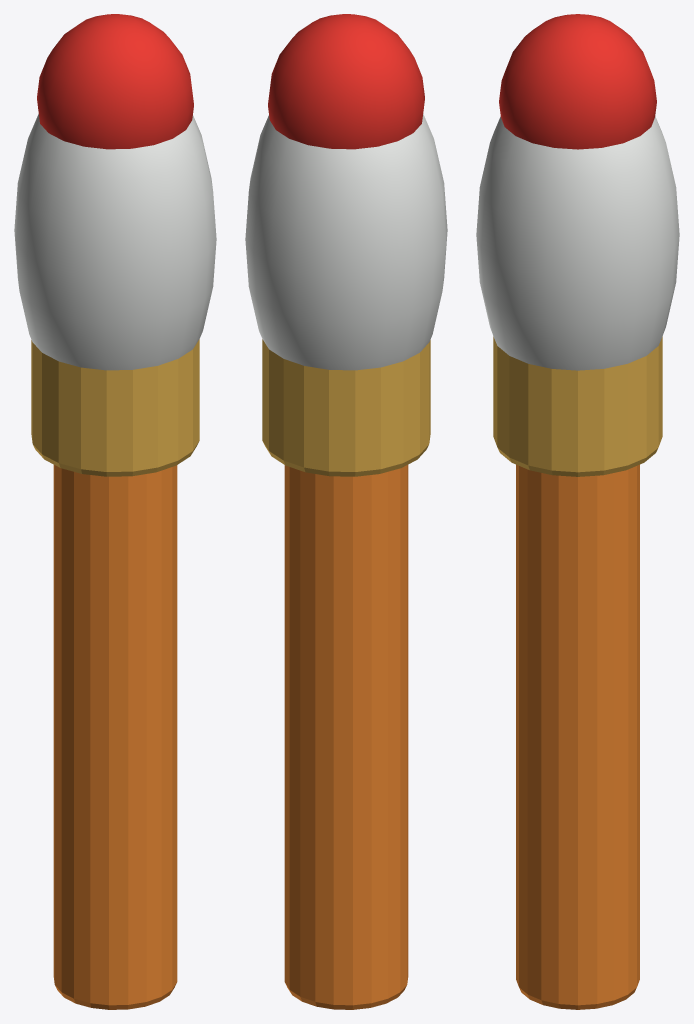
Rendered from pickup_brush.glb.
3 renders of one model, left to right at view 1: azimuth 30°, elevation 25°; view 2: azimuth 150°, elevation 25°; view 3: azimuth 270°, elevation 25°, orthographic.
Parts seen in each view (by area): view 1: Paintbrush wooden handle, Brush bristles, Ferrule, Red paint tip; view 2: Paintbrush wooden handle, Brush bristles, Ferrule, Red paint tip; view 3: Paintbrush wooden handle, Brush bristles, Ferrule, Red paint tip.
Boxes of the visible parts, bbox=[...] form: Paintbrush wooden handle: bbox=[53, 465, 177, 1009]; Brush bristles: bbox=[14, 114, 216, 370]; Ferrule: bbox=[31, 339, 199, 476]; Red paint tip: bbox=[37, 14, 193, 149]; Paintbrush wooden handle: bbox=[284, 465, 408, 1009]; Brush bristles: bbox=[245, 114, 447, 370]; Ferrule: bbox=[262, 339, 430, 476]; Red paint tip: bbox=[268, 14, 424, 149]; Paintbrush wooden handle: bbox=[516, 464, 639, 1009]; Brush bristles: bbox=[476, 116, 679, 370]; Ferrule: bbox=[493, 336, 662, 476]; Red paint tip: bbox=[499, 14, 656, 149].
Size of the model in its own units: 0.18 by 0.945 by 0.18.
